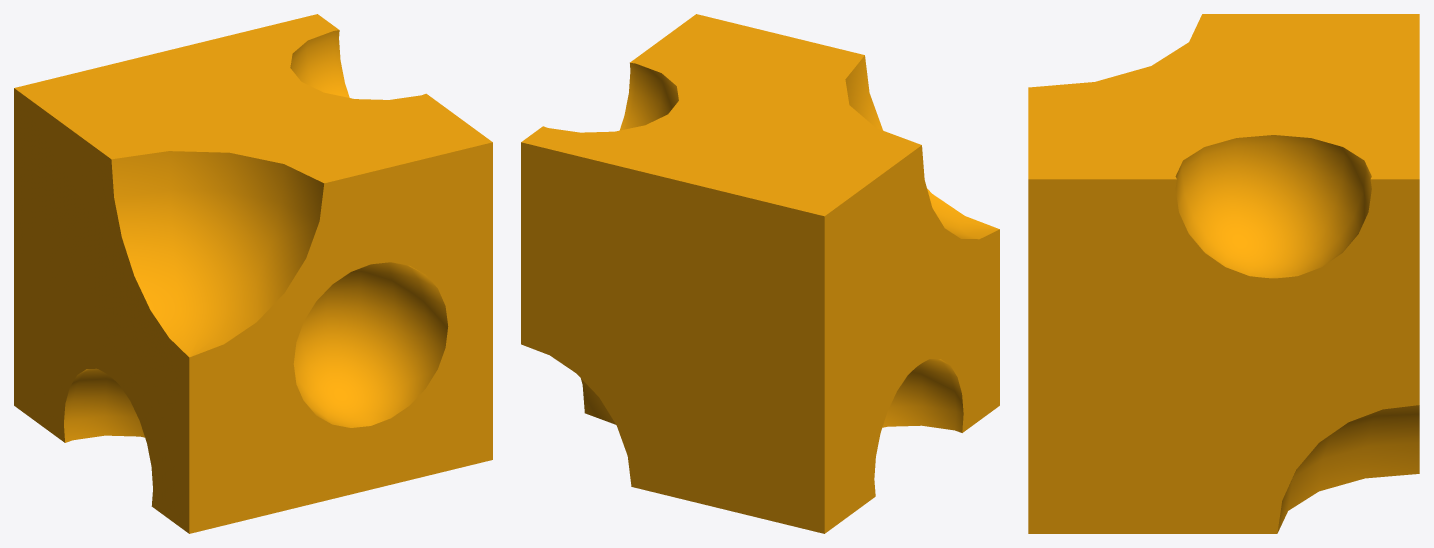
The model's file is Cheese.fbx.
The picture shows the model from 3 angles, left to right: view 1: azimuth 30°, elevation 25°; view 2: azimuth 150°, elevation 25°; view 3: azimuth 270°, elevation 25°; orthographic projection. The views are drawn at different scales.
Parts seen in each view (by area): view 1: Cheese; view 2: Cheese; view 3: Cheese.
Boxes of the visible parts, <box> form: Cheese: <box>14,14,492,533</box>; Cheese: <box>521,14,999,533</box>; Cheese: <box>1028,14,1419,533</box>.
Bounding box in the file's own units: 9.44 × 9.44 × 9.44.
